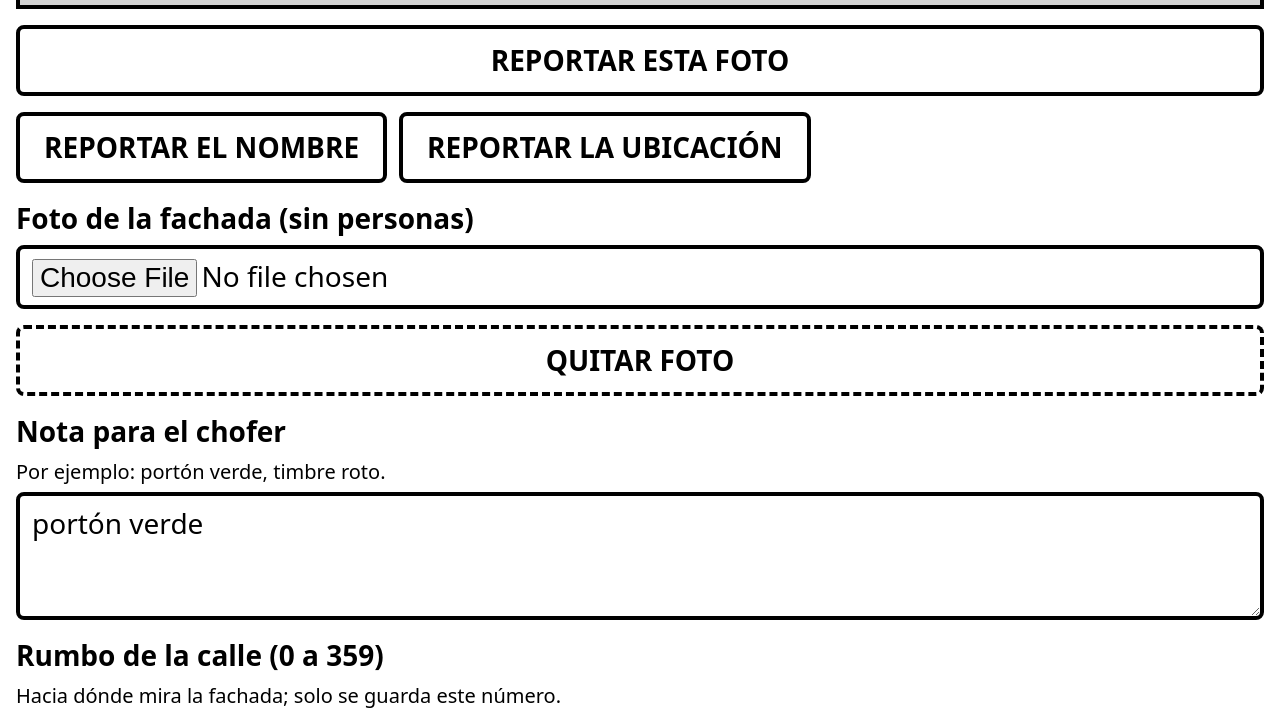
Scenario: detalle del local › quitar la foto: el admin y el despachador pueden; la foto desaparece de la ficha
(page scrolled)
Click the button "QUITAR FOTO": coordinates (640, 360) [16, 325, 1264, 396]
(page scrolled)
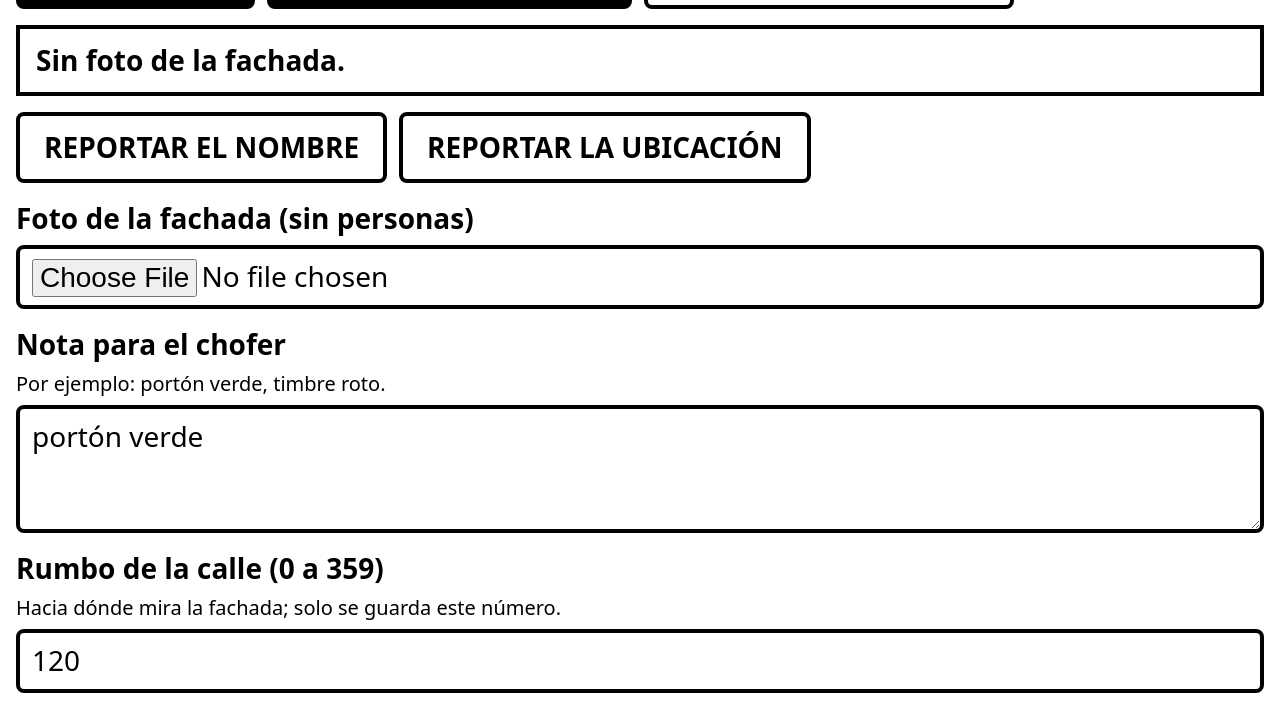
expect the text "Sin foto de la fachada." is shown: met, box [16, 25, 1264, 96]
expect the button "QUITAR FOTO" is gone: met
